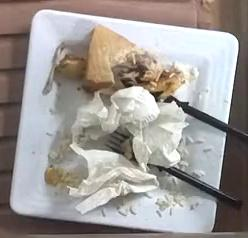pizza_crust: (84, 26, 136, 92)
rice_mix: (112, 48, 189, 101)
